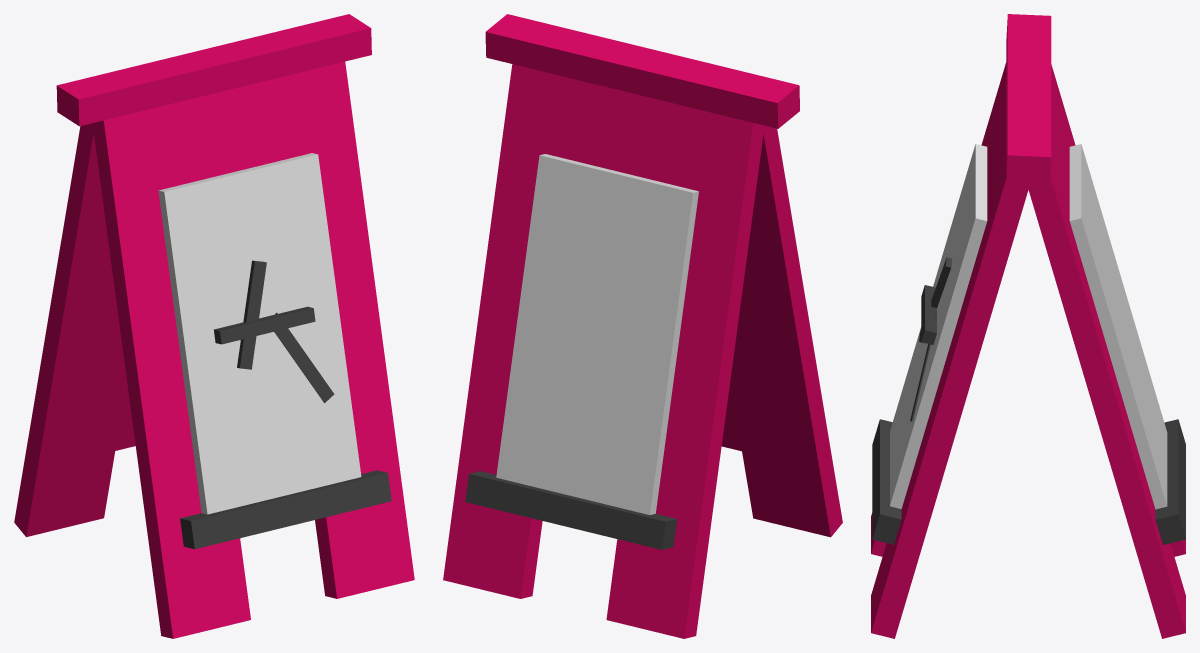
The model's file is sidewalkSign.fbx.
The picture shows the model from 3 angles, left to right: view 1: azimuth 30°, elevation 25°; view 2: azimuth 150°, elevation 25°; view 3: azimuth 270°, elevation 25°; orthographic projection.
Visible parts, largest first — view 1: polySurface77; view 2: polySurface77; view 3: polySurface77.
Part boxes in pixels (x1=…): polySurface77: x1=14, y1=14, x2=414, y2=638; polySurface77: x1=443, y1=14, x2=842, y2=638; polySurface77: x1=871, y1=14, x2=1185, y2=638.
Size of the model in its own units: 15.65 by 25.6 by 14.74.
